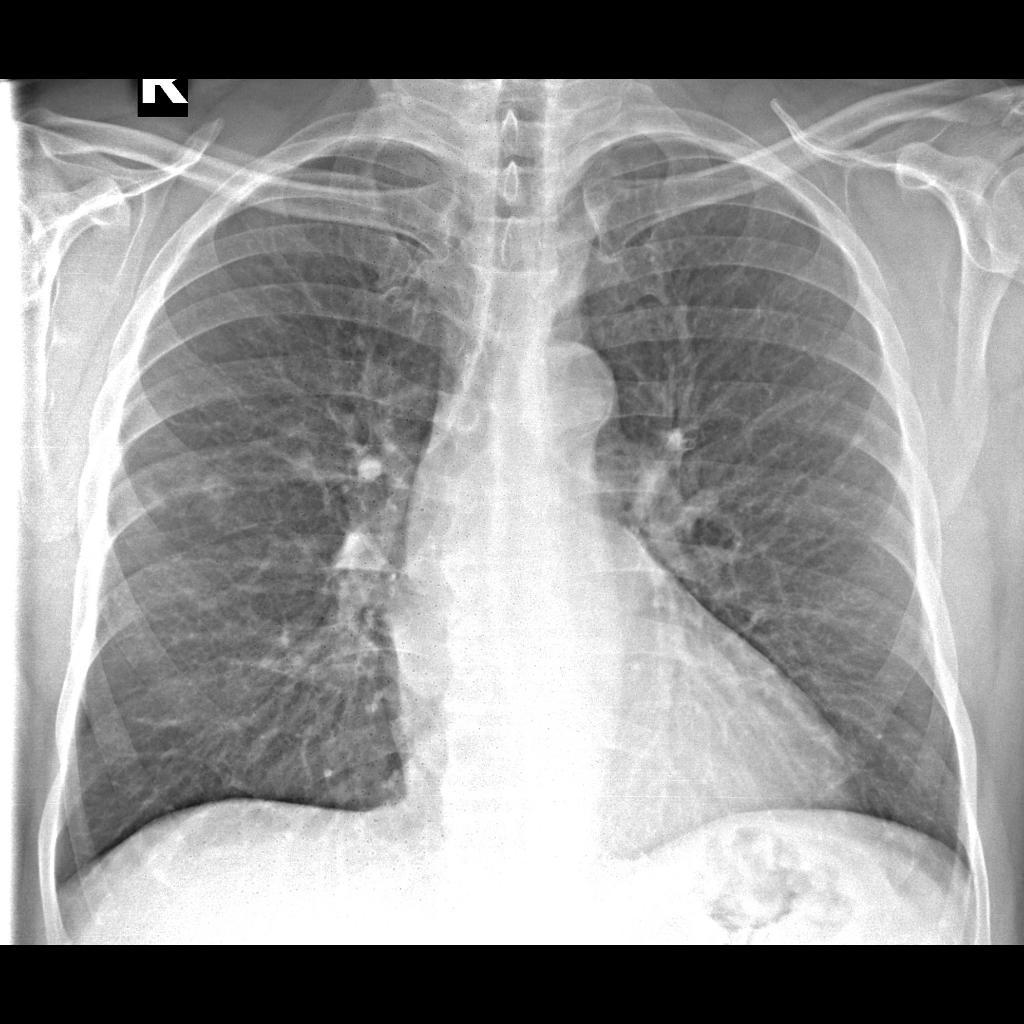Nodule: (190, 458, 245, 513)
